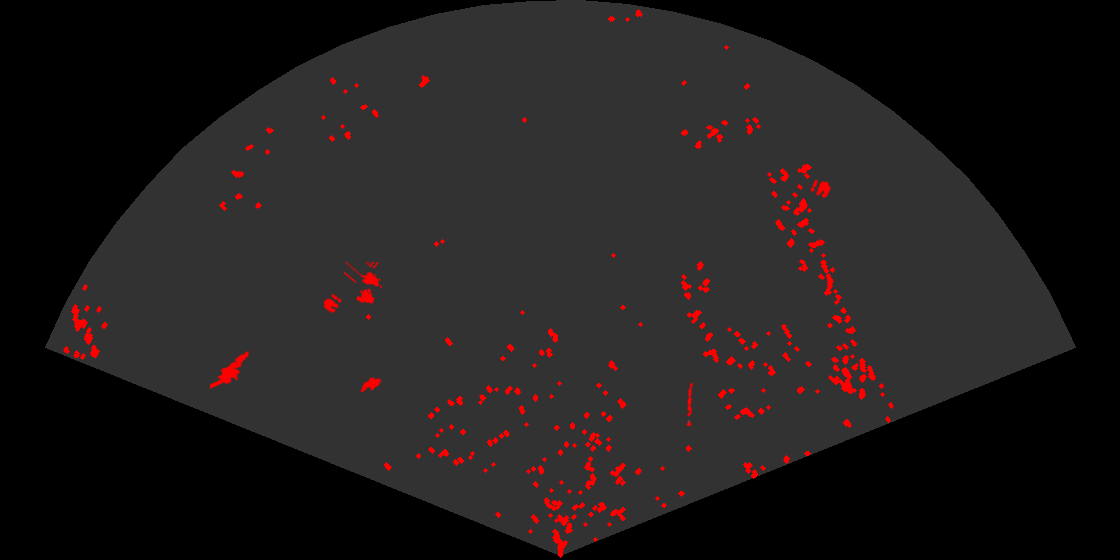AUV: (359, 375, 383, 394)
ball: (809, 178, 833, 200), (322, 292, 343, 315)
cage: (344, 262, 384, 306)
chain: (685, 381, 695, 426)
frogman: (210, 348, 258, 390)
